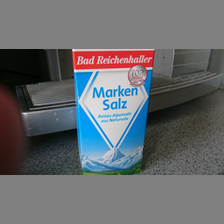spices: (72, 49, 155, 174)
